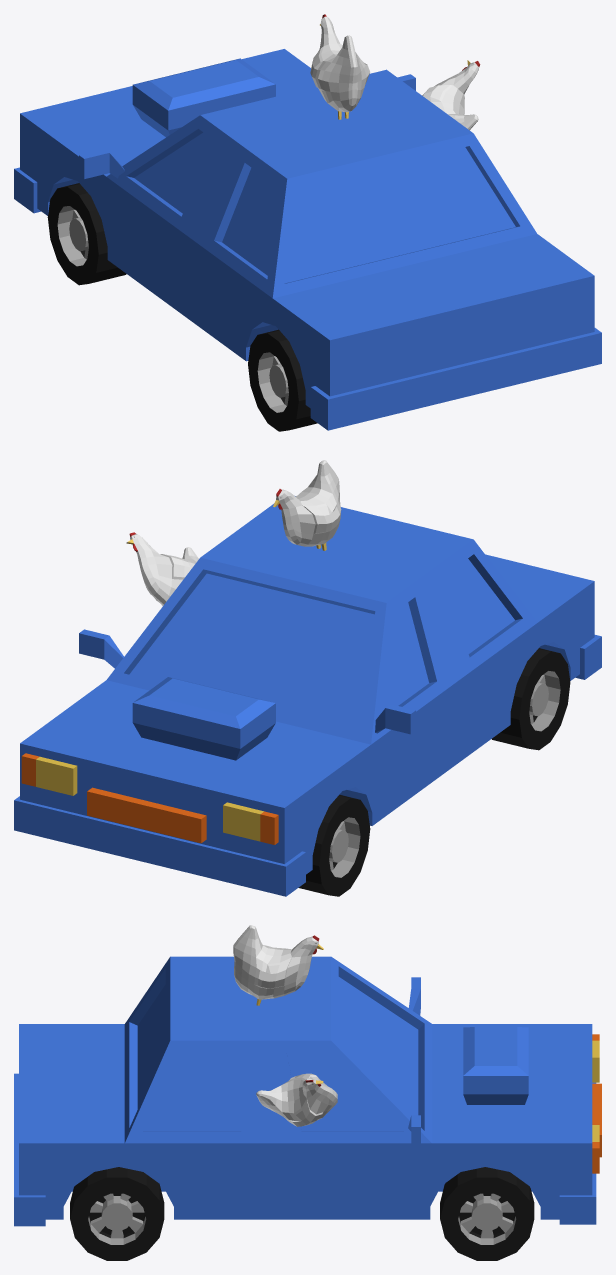
File: carChickenSwarm.glb
3 renders of one model, top to bottom at view 1: azimuth 30°, elevation 25°; view 2: azimuth 150°, elevation 25°; view 3: azimuth 270°, elevation 25°, orthographic. The views are drawn at different scales.
Parts seen in each view (by area): view 1: car, wheel, wheel.001, Chicken.001, Chicken, mirror; view 2: car, wheel.001, wheel, Chicken.001, Cube, car light, Chicken, mirror; view 3: car, wheel.001, wheel, Chicken.001, Chicken, car light, mirror, Cube.
Boxes of the visible parts, <box> form: car: <box>14,49,601,430</box>; wheel: <box>47,183,126,285</box>; wheel.001: <box>248,329,317,431</box>; Chicken.001: <box>310,14,370,119</box>; Chicken: <box>422,60,480,130</box>; mirror: <box>79,74,415,179</box>; car: <box>14,496,601,896</box>; wheel.001: <box>492,648,570,750</box>; wheel: <box>298,794,370,896</box>; Chicken.001: <box>273,460,341,550</box>; Cube: <box>87,787,206,843</box>; car light: <box>21,753,278,844</box>; Chicken: <box>126,532,198,605</box>; mirror: <box>79,629,415,734</box>; car: <box>14,956,596,1226</box>; wheel.001: <box>70,1167,164,1260</box>; wheel: <box>440,1167,534,1260</box>; Chicken.001: <box>233,925,323,1005</box>; Chicken: <box>256,1073,337,1126</box>; car light: <box>592,1034,599,1173</box>; mirror: <box>408,977,420,1145</box>; Cube: <box>592,1083,601,1157</box>.
Size of the model in its own units: 3 by 2.55 by 4.87.
